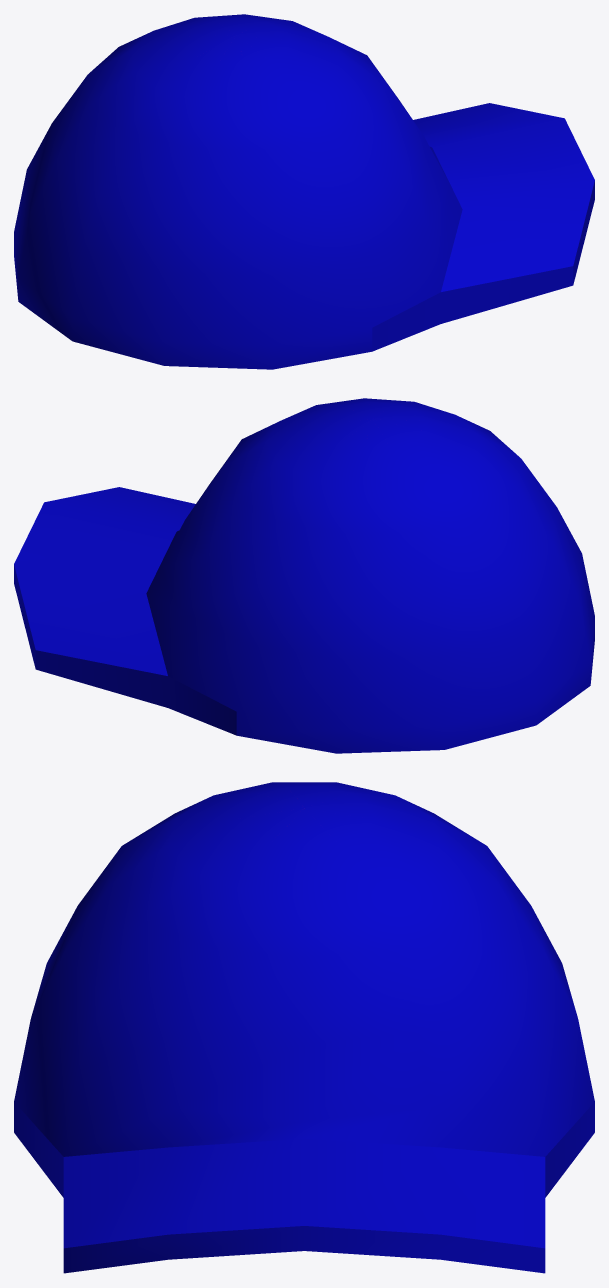
File: baseballCap.fbx
3 renders of one model, top to bottom at view 1: azimuth 30°, elevation 25°; view 2: azimuth 150°, elevation 25°; view 3: azimuth 270°, elevation 25°, orthographic. The views are drawn at different scales.
Parts seen in each view (by area): view 1: pSphere1; view 2: pSphere1; view 3: pSphere1.
Boxes of the visible parts, <box> form: pSphere1: <box>14,14,594,369</box>; pSphere1: <box>14,398,594,753</box>; pSphere1: <box>14,782,594,1273</box>.
Bounding box in the file's own units: 1.4 × 0.6395 × 1.05.
1 material, 1 textured.
